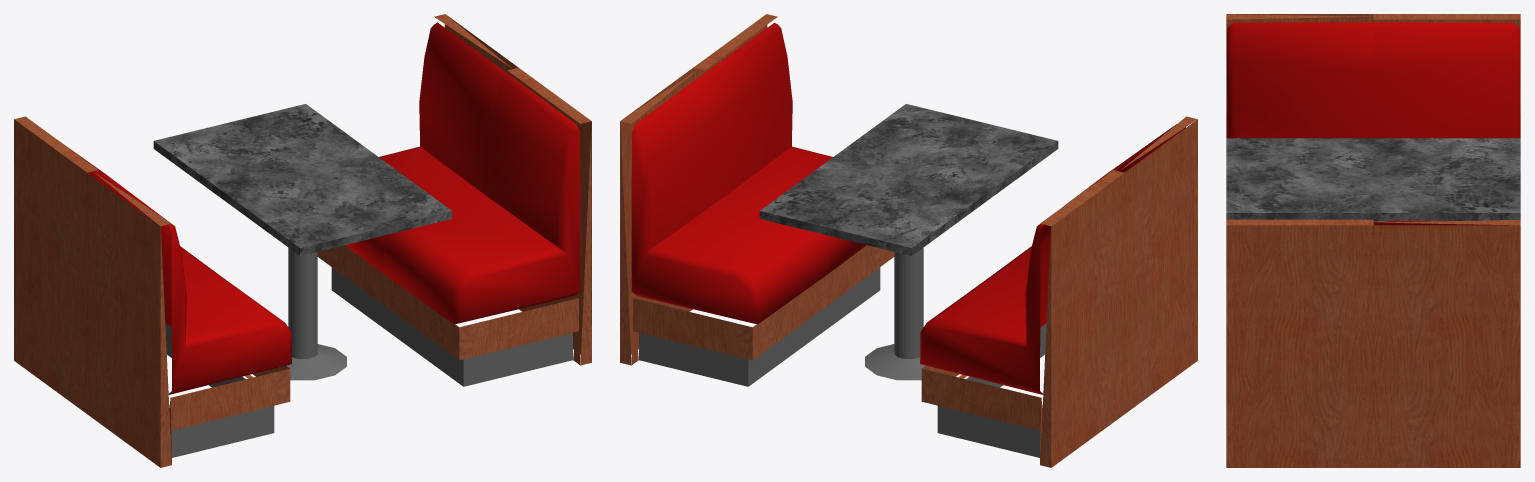
3 renders of one model, left to right at view 1: azimuth 30°, elevation 25°; view 2: azimuth 150°, elevation 25°; view 3: azimuth 270°, elevation 25°, orthographic.
Visible parts, largest first — view 1: Material2.057, Material2.066, Material2.055, Material2.064, Material2.060, Material2.054, Material2.058, Material2.059, Material2.056, Material2.061, Material2.053, Material2.062 (+1 smaller); view 2: Material2.060, Material2.064, Material2.066, Material2.055, Material2.057, Material2.063, Material2.061, Material2.062, Material2.065, Material2.058, Material2.052, Material2.059 (+2 smaller); view 3: Material2.058, Material2.061, Material2.066, Material2.063, Material2.054, Material2.064, Material2.055, Material2.060.
Part boxes in pixels (<box>): Material2.057: <box>383,73,580,324</box>; Material2.066: <box>153,104,452,255</box>; Material2.055: <box>87,172,290,467</box>; Material2.064: <box>14,116,97,413</box>; Material2.060: <box>345,22,506,272</box>; Material2.054: <box>99,172,291,394</box>; Material2.058: <box>387,67,591,365</box>; Material2.059: <box>397,315,572,386</box>; Material2.056: <box>171,376,274,457</box>; Material2.061: <box>317,14,518,307</box>; Material2.053: <box>286,249,324,380</box>; Material2.062: <box>331,267,397,338</box>; Material2.060: <box>631,73,828,324</box>; Material2.064: <box>921,170,1124,467</box>; Material2.066: <box>759,104,1058,255</box>; Material2.055: <box>1120,116,1197,413</box>; Material2.057: <box>705,23,866,272</box>; Material2.063: <box>920,173,1108,394</box>; Material2.061: <box>620,68,824,365</box>; Material2.062: <box>639,315,814,386</box>; Material2.065: <box>937,376,1040,457</box>; Material2.058: <box>693,14,894,307</box>; Material2.052: <box>887,249,925,380</box>; Material2.059: <box>814,267,880,338</box>; Material2.058: <box>1226,219,1373,467</box>; Material2.061: <box>1373,219,1520,467</box>; Material2.066: <box>1226,138,1520,220</box>; Material2.063: <box>1373,22,1520,221</box>; Material2.054: <box>1226,22,1373,138</box>; Material2.064: <box>1373,14,1520,137</box>; Material2.055: <box>1226,14,1373,137</box>; Material2.060: <box>1373,222,1508,225</box>.
Bounding box in the file's own units: 66.94 × 35.83 × 39.37.
Materials: 4 (2 with a texture image).
